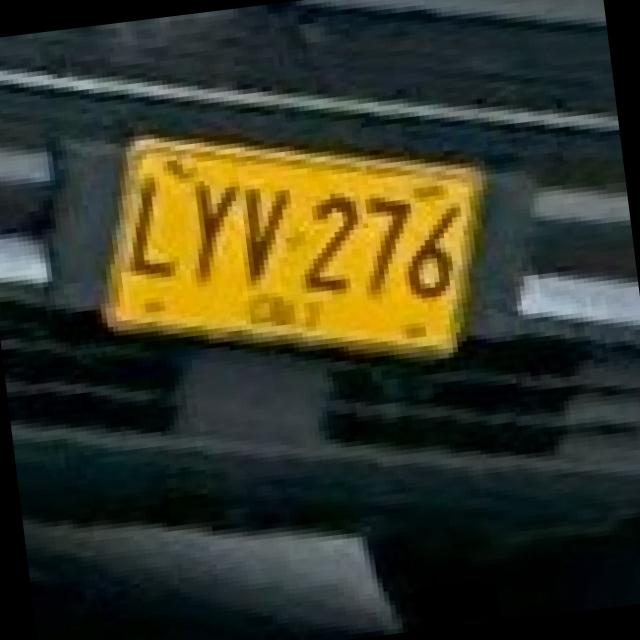number plate: (99, 130, 476, 348)
